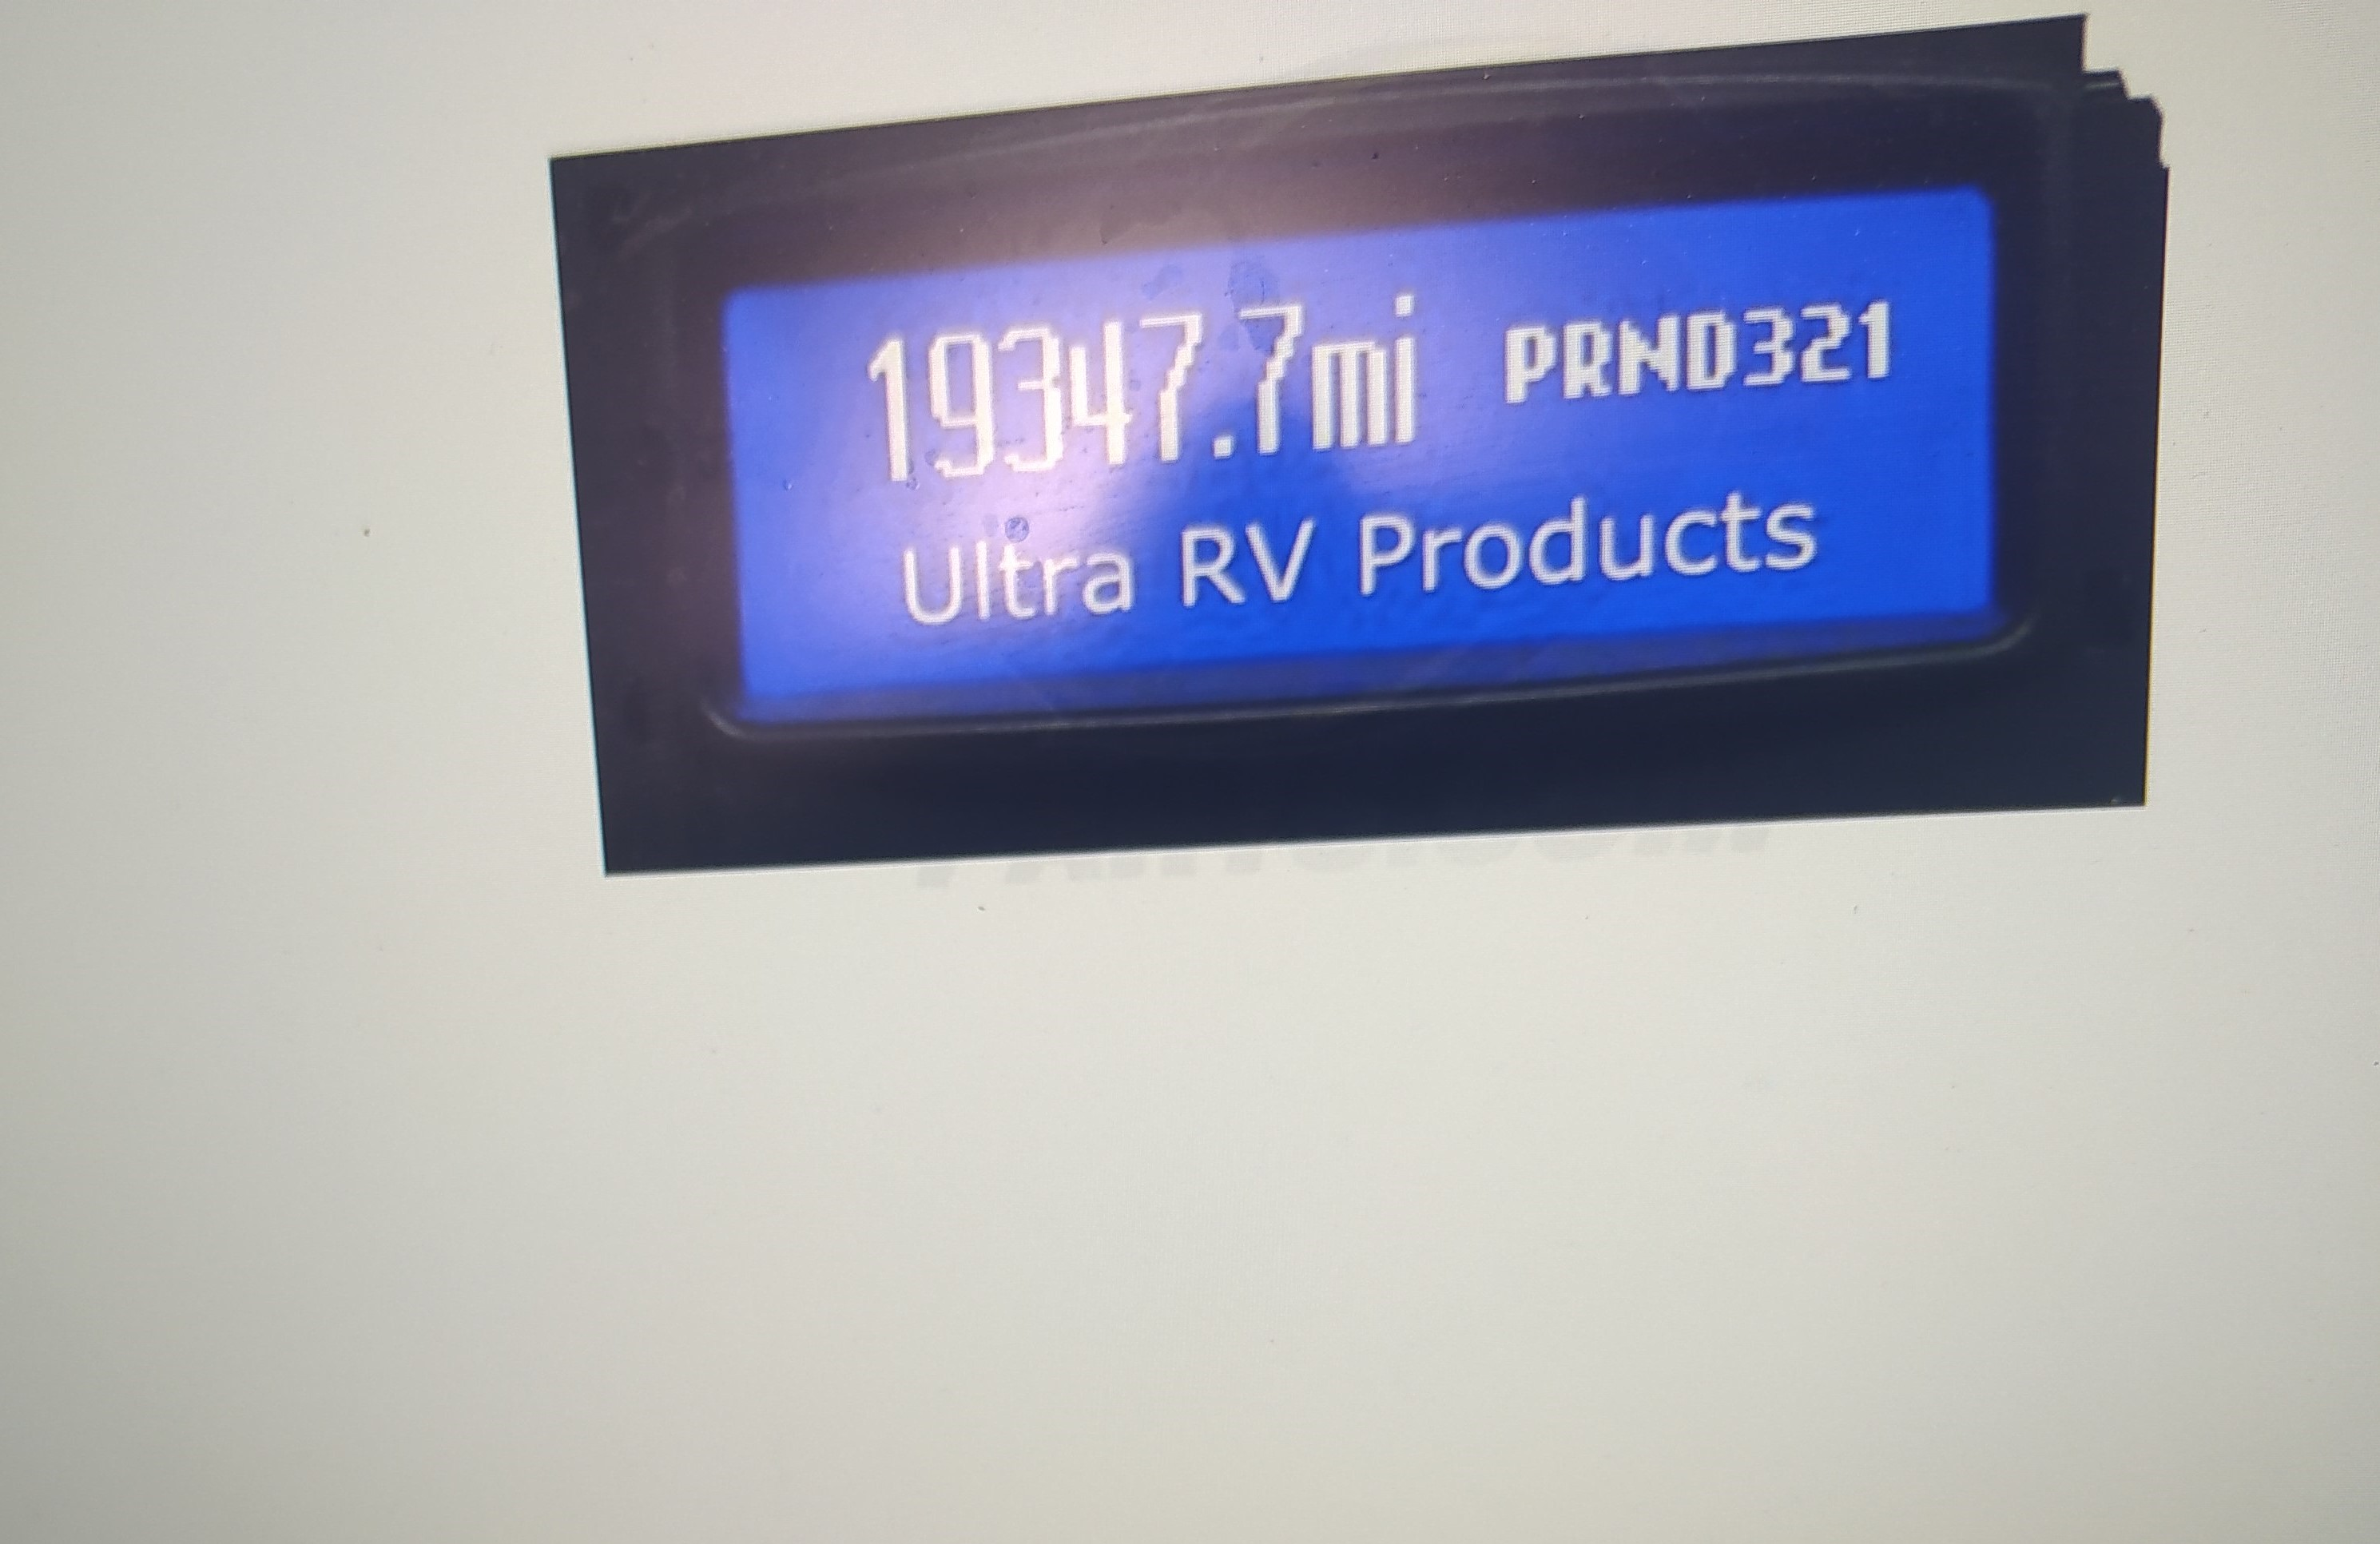.: (1211, 311, 1235, 460)
1: (869, 333, 911, 484), (1856, 300, 1894, 380)
2: (1799, 304, 1853, 385)
3: (997, 326, 1065, 474), (1742, 309, 1795, 387)
4: (1067, 317, 1134, 465)
7: (1239, 304, 1304, 456), (1138, 312, 1202, 463)
9: (928, 330, 994, 477)
